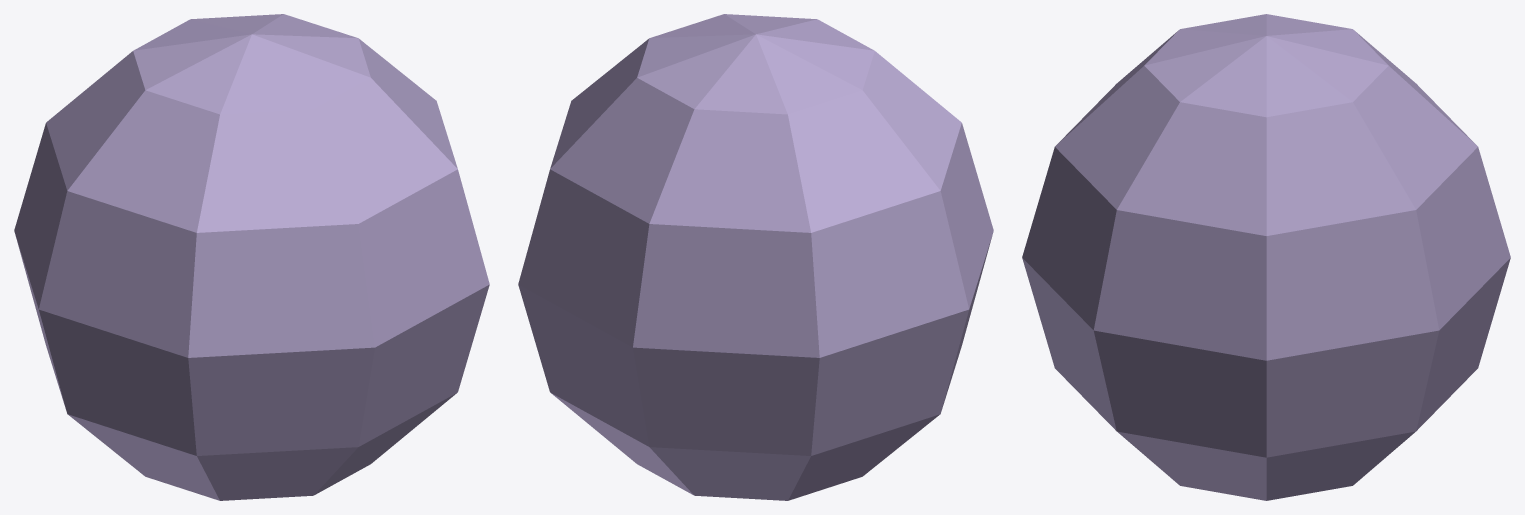
Rendered from sphere_flower_lav.gltf.
3 views of the same model, side by side, from view 1: azimuth 30°, elevation 25°; view 2: azimuth 150°, elevation 25°; view 3: azimuth 270°, elevation 25° (orthographic).
Parts seen in each view (by area): view 1: mesh; view 2: mesh; view 3: mesh.
Boxes of the visible parts, x1,y1,x2,y2 form: mesh: (14,14,489,500); mesh: (518,14,993,500); mesh: (1022,14,1510,500).
Size of the model in its own units: 0.26 by 0.26 by 0.26.
